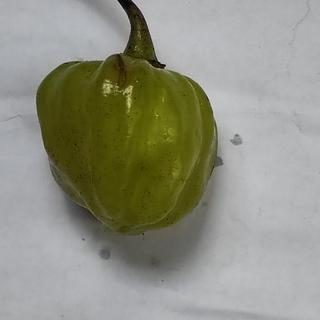Defect: (112, 51, 134, 96)
